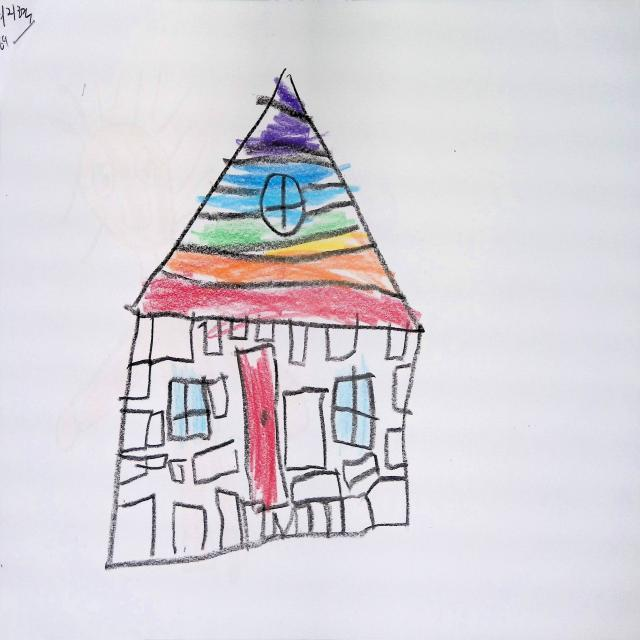door: (238, 345, 278, 509)
house: (108, 75, 425, 569)
roof: (127, 67, 425, 333)
wall: (107, 315, 424, 568)
window: (333, 368, 377, 450), (261, 174, 306, 236), (168, 379, 210, 440)
